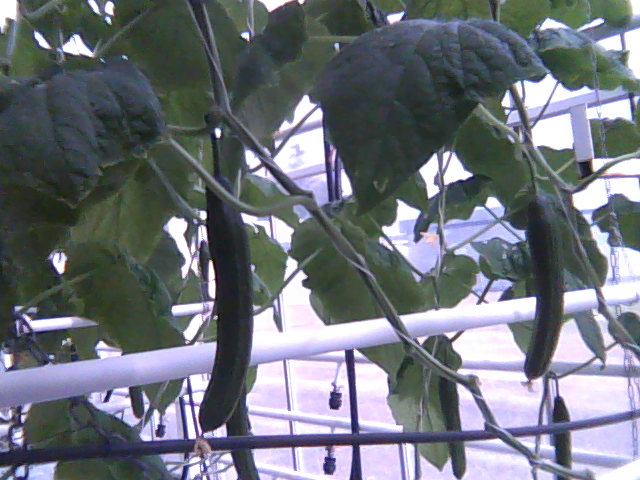concombre: (193, 168, 254, 464), (516, 184, 569, 393)
